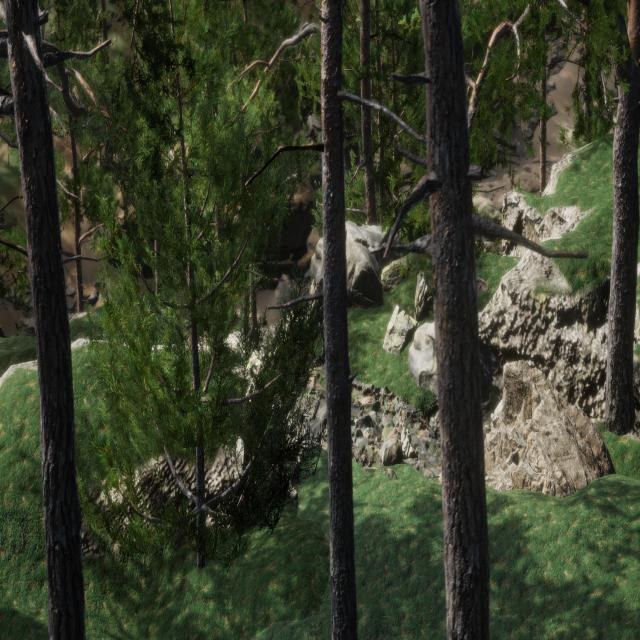Human: (299, 299, 330, 370)
